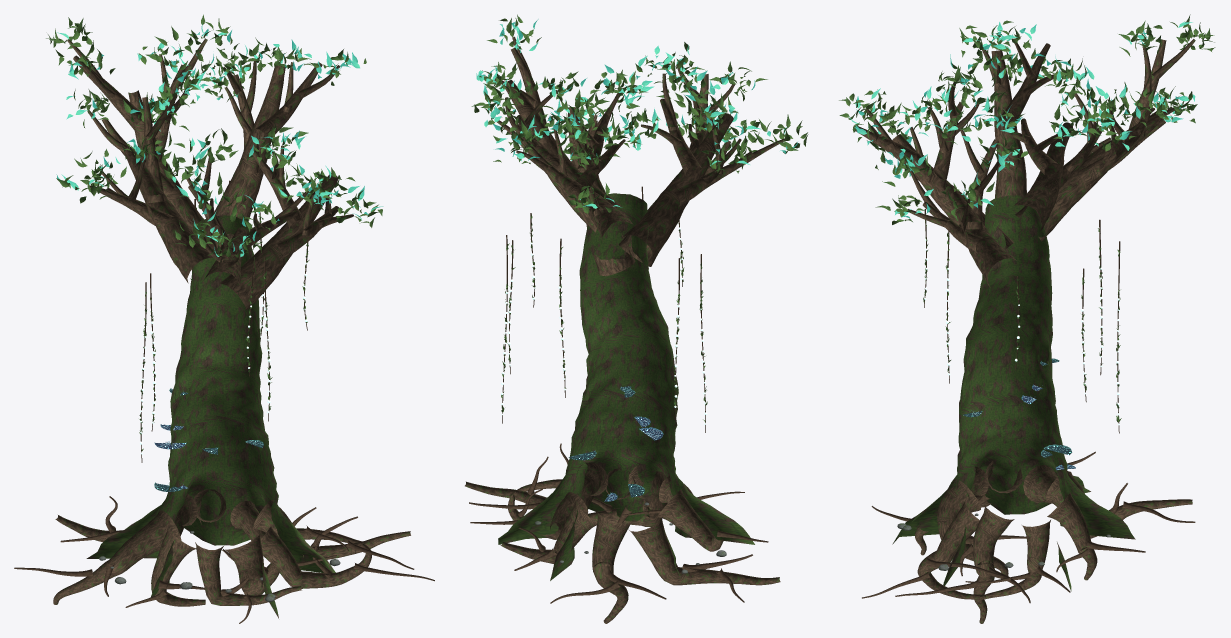
Rendered from ancient_giant_tree.glb.
The picture shows the model from 3 angles, left to right: view 1: azimuth 30°, elevation 25°; view 2: azimuth 150°, elevation 25°; view 3: azimuth 270°, elevation 25°; orthographic projection.
Visible parts, largest first — view 1: ancient_giant_tree__bark, ancient_giant_tree__bark_old, ancient_giant_tree__leaf, ancient_giant_tree__leaf_glow, ancient_giant_tree__root; view 2: ancient_giant_tree__bark, ancient_giant_tree__bark_old, ancient_giant_tree__leaf, ancient_giant_tree__root, ancient_giant_tree__leaf_glow; view 3: ancient_giant_tree__bark, ancient_giant_tree__bark_old, ancient_giant_tree__leaf, ancient_giant_tree__leaf_glow, ancient_giant_tree__root.
Part boxes in pixels (box(x1,y1,x2,y2)): ancient_giant_tree__bark: box(53, 38, 410, 606); ancient_giant_tree__bark_old: box(86, 215, 335, 618); ancient_giant_tree__leaf: box(46, 14, 382, 451); ancient_giant_tree__leaf_glow: box(56, 24, 383, 256); ancient_giant_tree__root: box(14, 180, 434, 623); ancient_giant_tree__bark: box(465, 36, 785, 623); ancient_giant_tree__bark_old: box(498, 193, 754, 580); ancient_giant_tree__leaf: box(471, 14, 808, 422); ancient_giant_tree__root: box(469, 186, 768, 603); ancient_giant_tree__leaf_glow: box(476, 19, 797, 208); ancient_giant_tree__bark: box(853, 39, 1195, 623); ancient_giant_tree__bark_old: box(892, 195, 1135, 591); ancient_giant_tree__leaf: box(839, 14, 1215, 422); ancient_giant_tree__leaf_glow: box(848, 22, 1195, 218); ancient_giant_tree__root: box(862, 209, 1195, 603).
Bounding box in the file's own units: 16.06 × 22.5 × 15.32.
9 materials, 8 textured.
